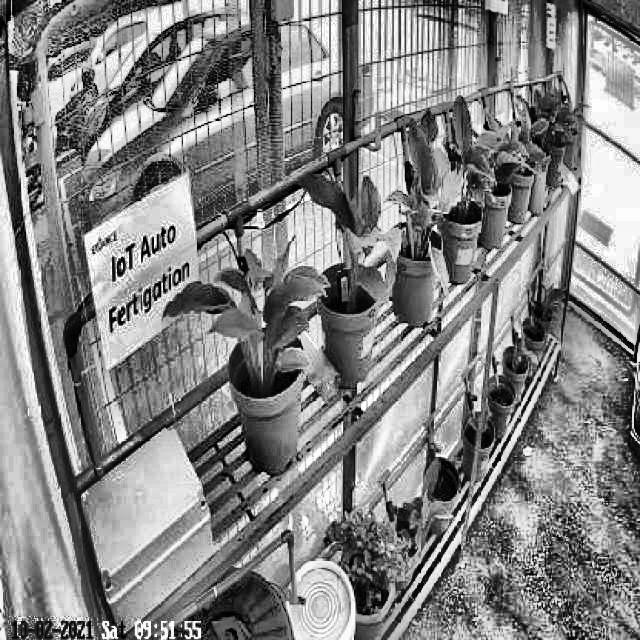plants: (162, 231, 332, 391), (303, 168, 402, 306), (384, 109, 450, 303), (430, 100, 495, 225)
